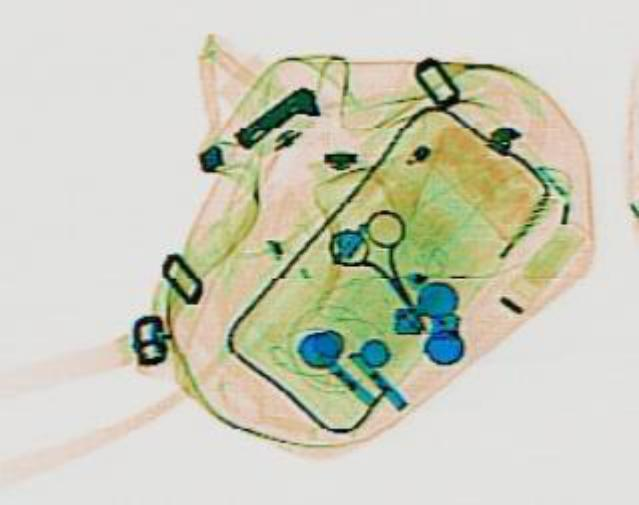Scissors: (312, 202, 465, 341)
